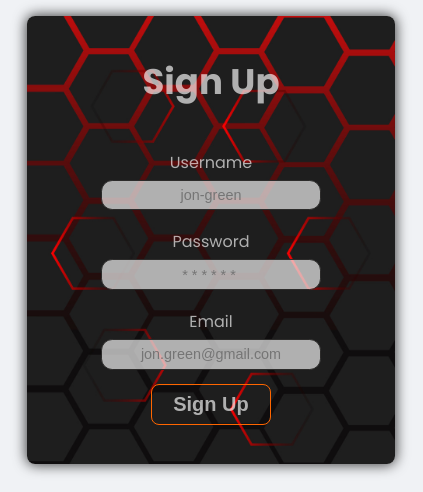
Test: Testing SignUp validation messages functionality › Wrong email input should have validation message
Type "john@abv" into the field labelled "Email" at (211, 354), box top-left (101, 339), bottom-right (321, 370)
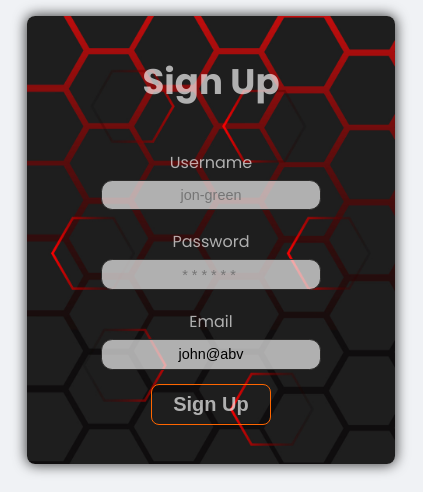
Leave the field labelled "Email", box top-left (101, 339), bottom-right (321, 370)
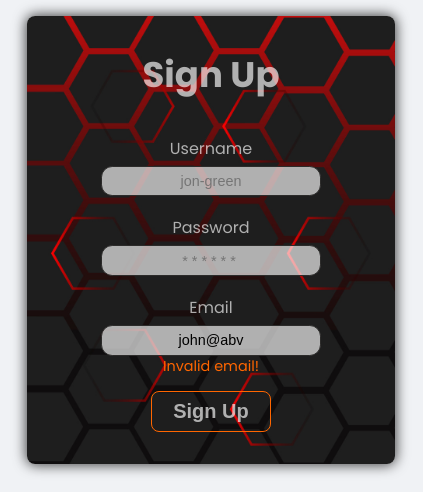
Check: the text "Invalid email!" is shown, box top-left (163, 356), bottom-right (259, 377)
